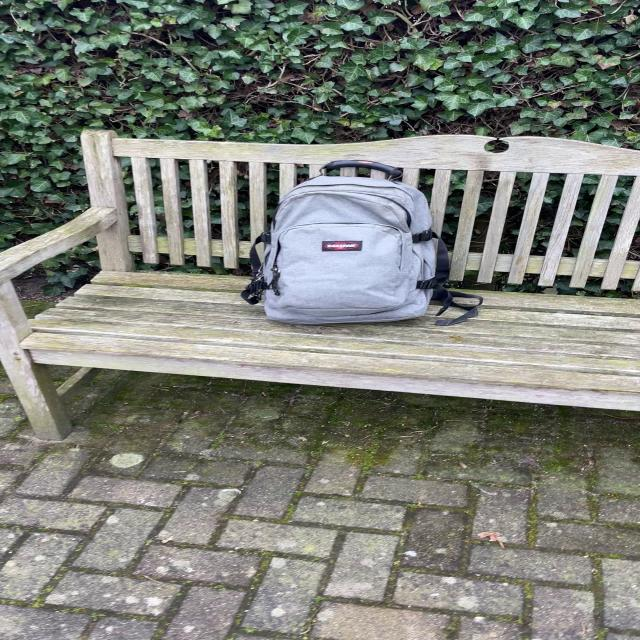backpack: (238, 156, 454, 331)
